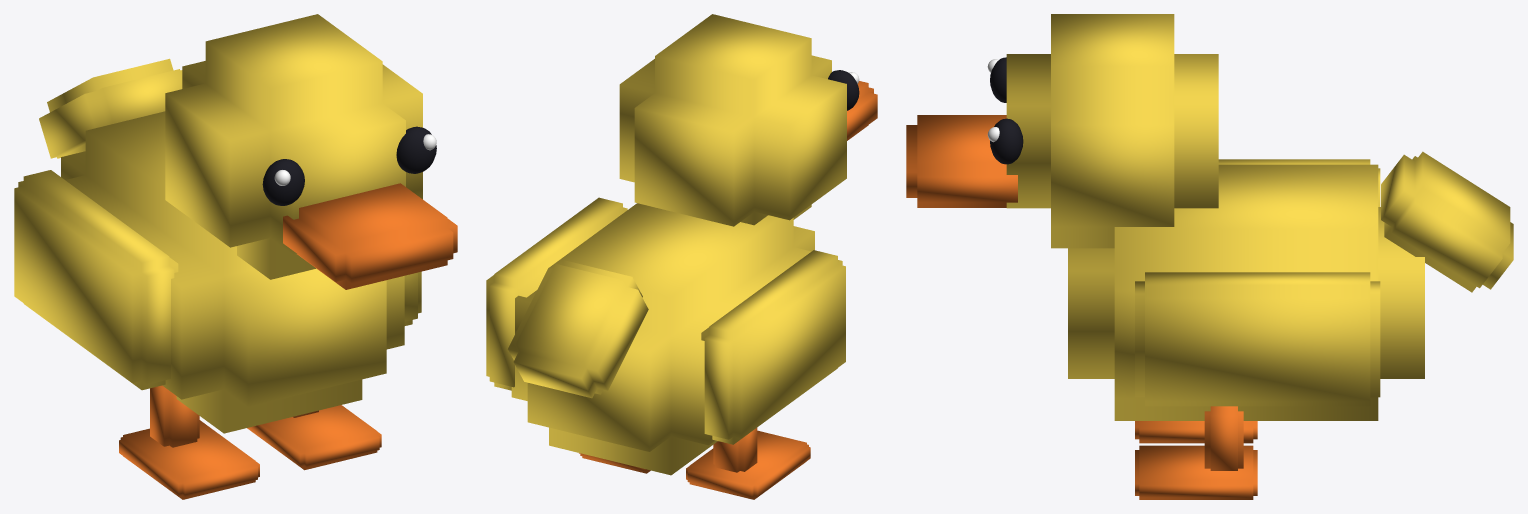
The model's file is Pet_Duck_Yellow.glb.
3 renders of one model, left to right at view 1: azimuth 30°, elevation 25°; view 2: azimuth 150°, elevation 25°; view 3: azimuth 270°, elevation 25°, orthographic. The views are drawn at different scales.
Visible parts, largest first — view 1: Pet_Duck_Yellow_Body, Pet_Duck_Yellow_Head, Pet_Duck_Yellow_Wing_-1, Pet_Duck_Yellow_Beak, Pet_Duck_Yellow, Pet_Duck_Yellow_Tail, Pet_Duck_Yellow_Foot_-1, Pet_Duck_Yellow_Leg_-1, Pet_Duck_Yellow_Eye_-1; view 2: Pet_Duck_Yellow_Head, Pet_Duck_Yellow_Body, Pet_Duck_Yellow_Wing_-1, Pet_Duck_Yellow_Tail, Pet_Duck_Yellow, Pet_Duck_Yellow_Foot_-1, Pet_Duck_Yellow_Leg_-1, Pet_Duck_Yellow_Beak, Pet_Duck_Yellow_Eye_-1; view 3: Pet_Duck_Yellow, Pet_Duck_Yellow_Body, Pet_Duck_Yellow_Head, Pet_Duck_Yellow_Tail, Pet_Duck_Yellow_Beak, Pet_Duck_Yellow_Foot_-1, Pet_Duck_Yellow_Wing_-1.
Part boxes in pixels (bbox=[...]): Pet_Duck_Yellow_Body: bbox=[61, 111, 404, 433]; Pet_Duck_Yellow_Head: bbox=[165, 14, 422, 279]; Pet_Duck_Yellow_Wing_-1: bbox=[14, 170, 178, 390]; Pet_Duck_Yellow_Beak: bbox=[283, 183, 457, 289]; Pet_Duck_Yellow: bbox=[247, 126, 436, 470]; Pet_Duck_Yellow_Tail: bbox=[39, 58, 182, 158]; Pet_Duck_Yellow_Foot_-1: bbox=[119, 420, 259, 499]; Pet_Duck_Yellow_Leg_-1: bbox=[150, 385, 199, 447]; Pet_Duck_Yellow_Eye_-1: bbox=[262, 159, 304, 205]; Pet_Duck_Yellow_Head: bbox=[619, 14, 846, 226]; Pet_Duck_Yellow_Body: bbox=[511, 203, 814, 475]; Pet_Duck_Yellow_Wing_-1: bbox=[701, 250, 845, 444]; Pet_Duck_Yellow_Tail: bbox=[508, 260, 648, 398]; Pet_Duck_Yellow: bbox=[486, 197, 650, 473]; Pet_Duck_Yellow_Foot_-1: bbox=[686, 430, 810, 499]; Pet_Duck_Yellow_Leg_-1: bbox=[713, 428, 757, 472]; Pet_Duck_Yellow_Beak: bbox=[847, 81, 877, 140]; Pet_Duck_Yellow_Eye_-1: bbox=[828, 70, 859, 110]; Pet_Duck_Yellow: bbox=[987, 118, 1380, 499]; Pet_Duck_Yellow_Body: bbox=[1068, 164, 1424, 420]; Pet_Duck_Yellow_Head: bbox=[1006, 14, 1218, 248]; Pet_Duck_Yellow_Tail: bbox=[1381, 151, 1513, 292]; Pet_Duck_Yellow_Beak: bbox=[906, 115, 1017, 207]; Pet_Duck_Yellow_Foot_-1: bbox=[1135, 421, 1257, 443]; Pet_Duck_Yellow_Wing_-1: bbox=[1218, 159, 1380, 206].
Bounding box in the file's own units: 0.285 × 0.41 × 0.5445.
